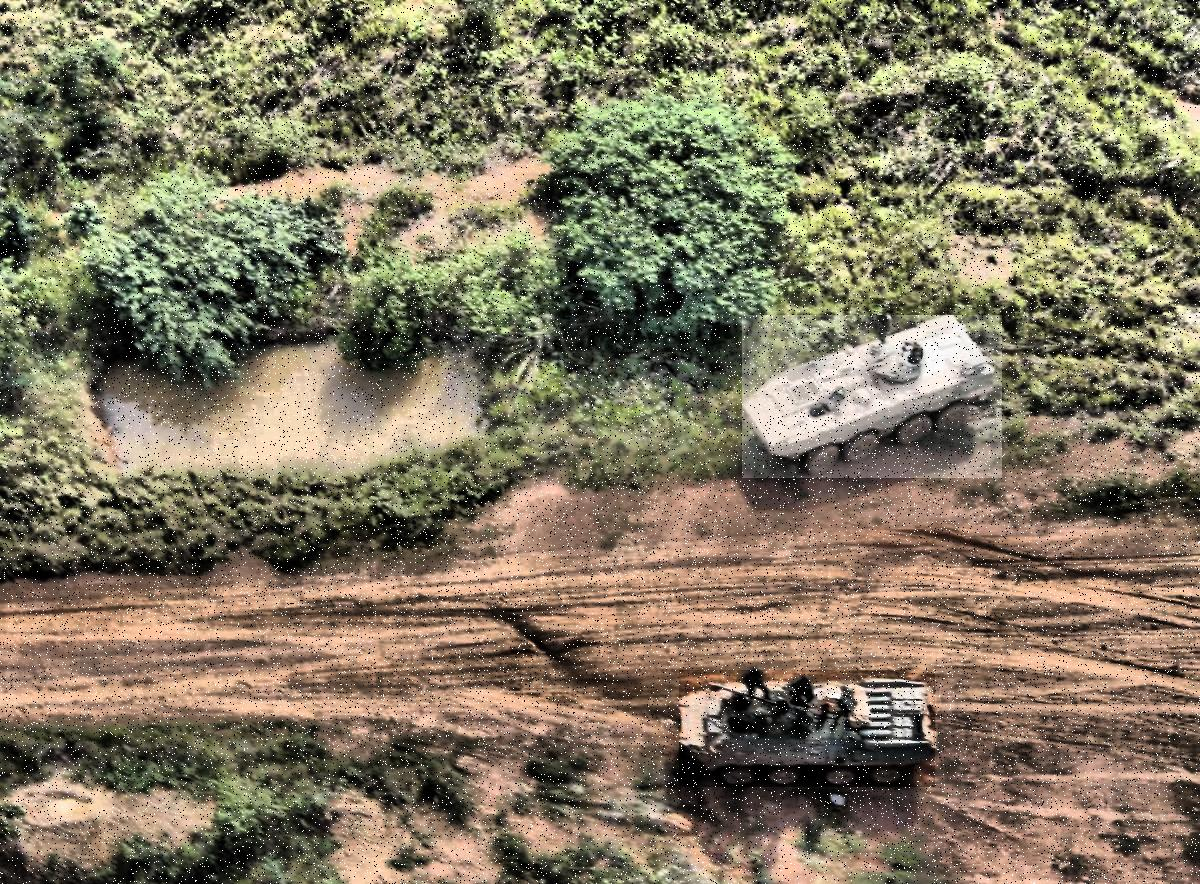military-vehicle: (743, 316, 1003, 479), (680, 670, 936, 787)
